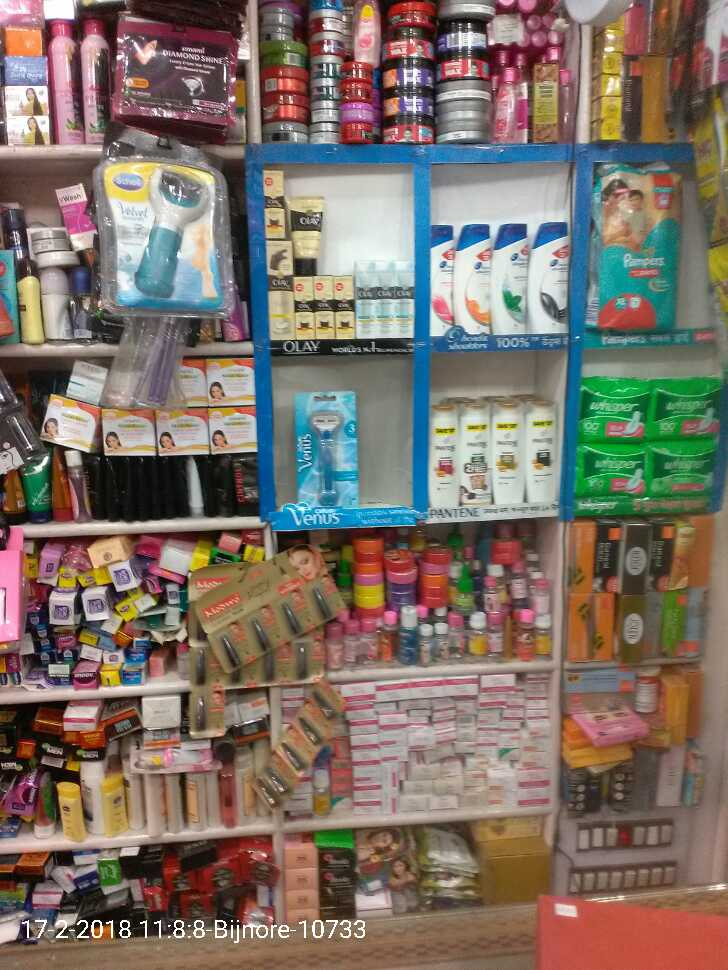venus: (297, 389, 358, 507)
